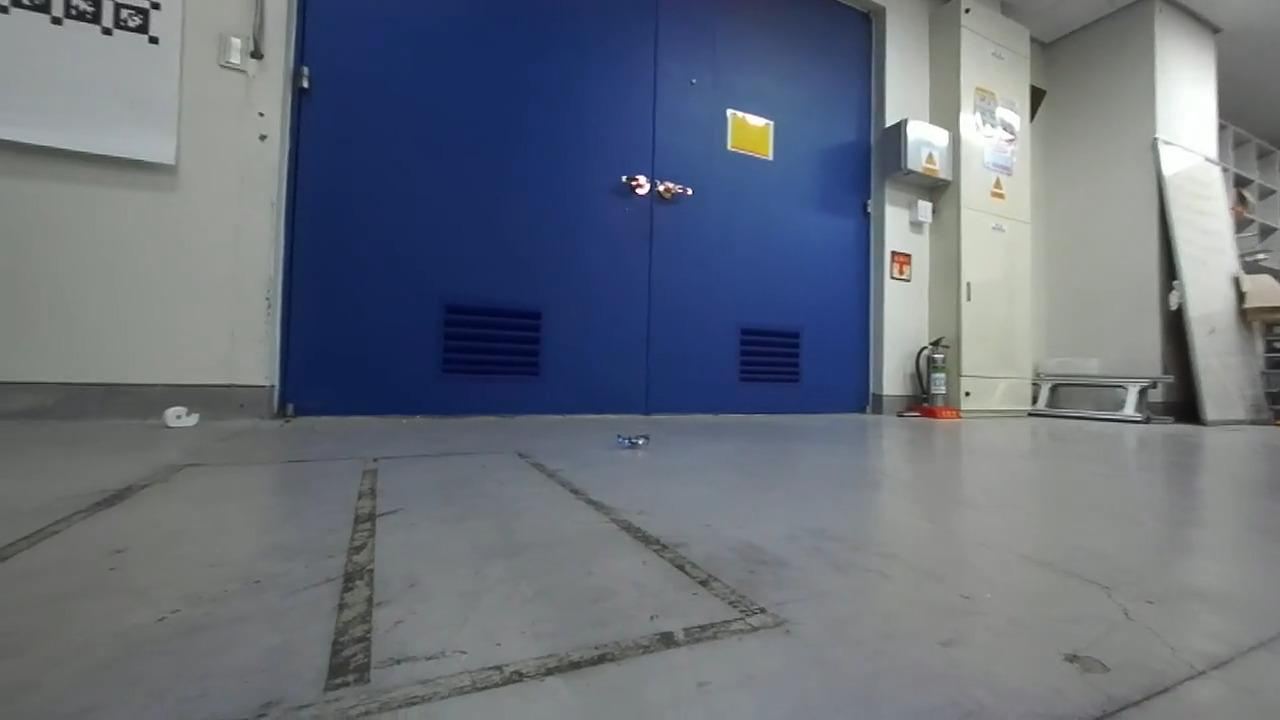crazyflie: (605, 428, 659, 454)
